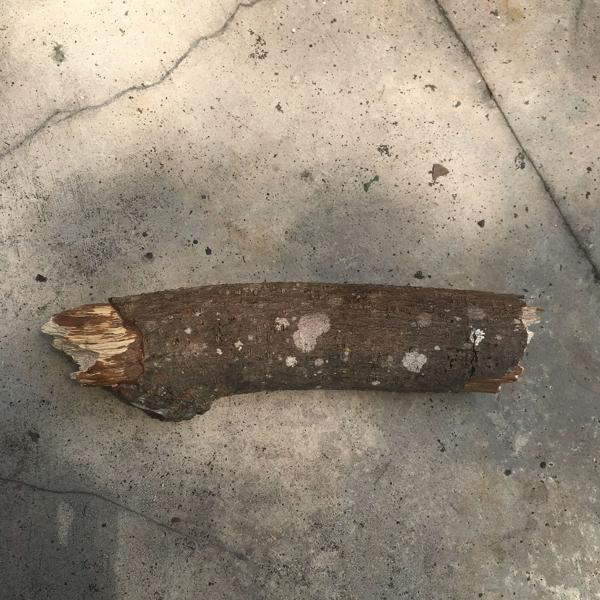Organik: (39, 256, 554, 437)
